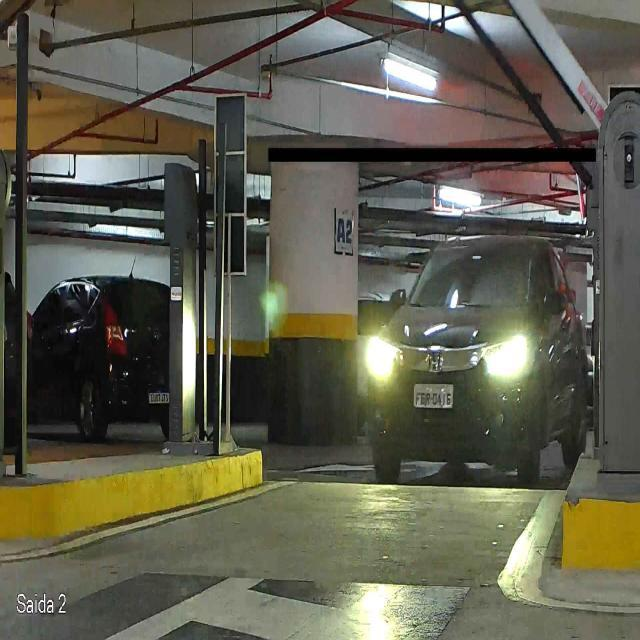old_plate: (412, 382, 456, 410)
